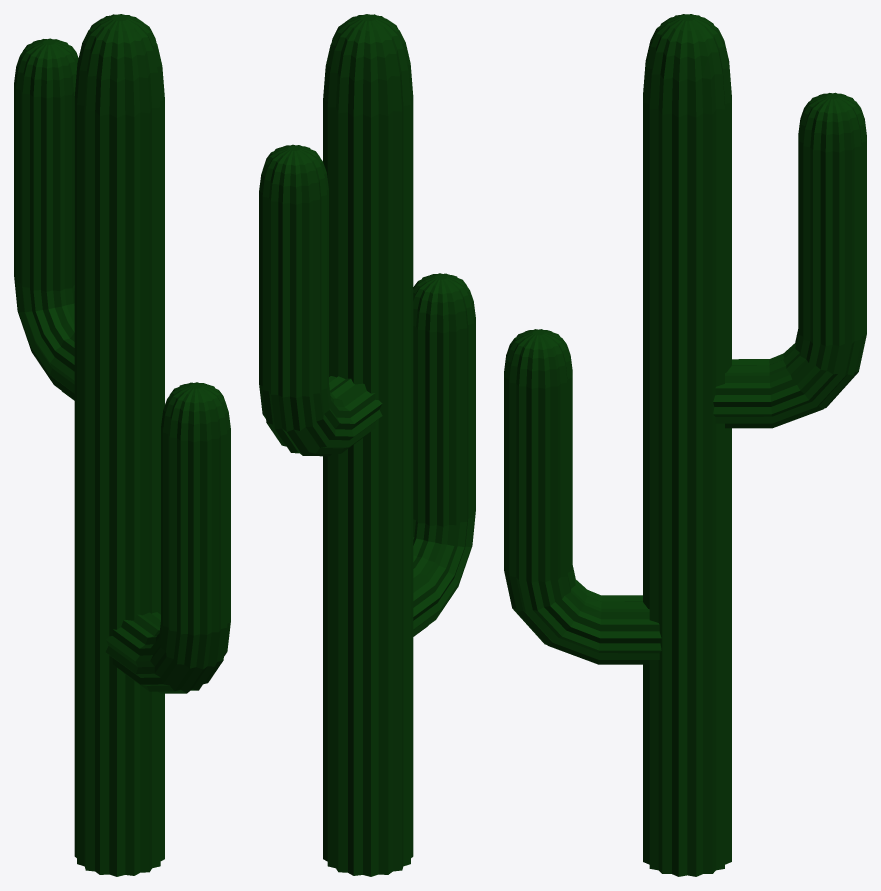
The model's file is cactus3.obj.
3 renders of one model, left to right at view 1: azimuth 30°, elevation 25°; view 2: azimuth 150°, elevation 25°; view 3: azimuth 270°, elevation 25°, orthographic.
Parts seen in each view (by area): view 1: Circle.003_Circle.016; view 2: Circle.003_Circle.016; view 3: Circle.003_Circle.016.
Boxes of the visible parts, x1,y1,x2,y2 form: Circle.003_Circle.016: (14,14,230,876); Circle.003_Circle.016: (259,14,475,876); Circle.003_Circle.016: (504,14,866,876).
Bounding box in the file's own units: 2.85 × 29.7 × 11.62.
